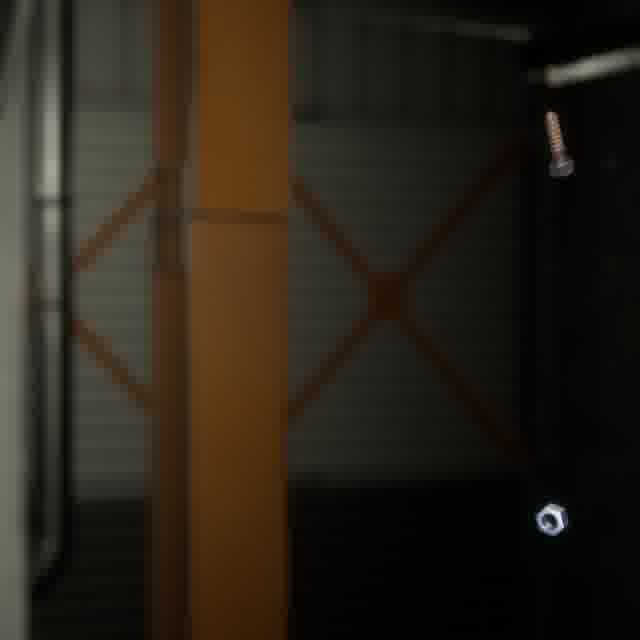bolt: (539, 106, 578, 181)
nut: (530, 498, 573, 541)
